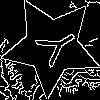Y: (26, 21, 82, 74)
